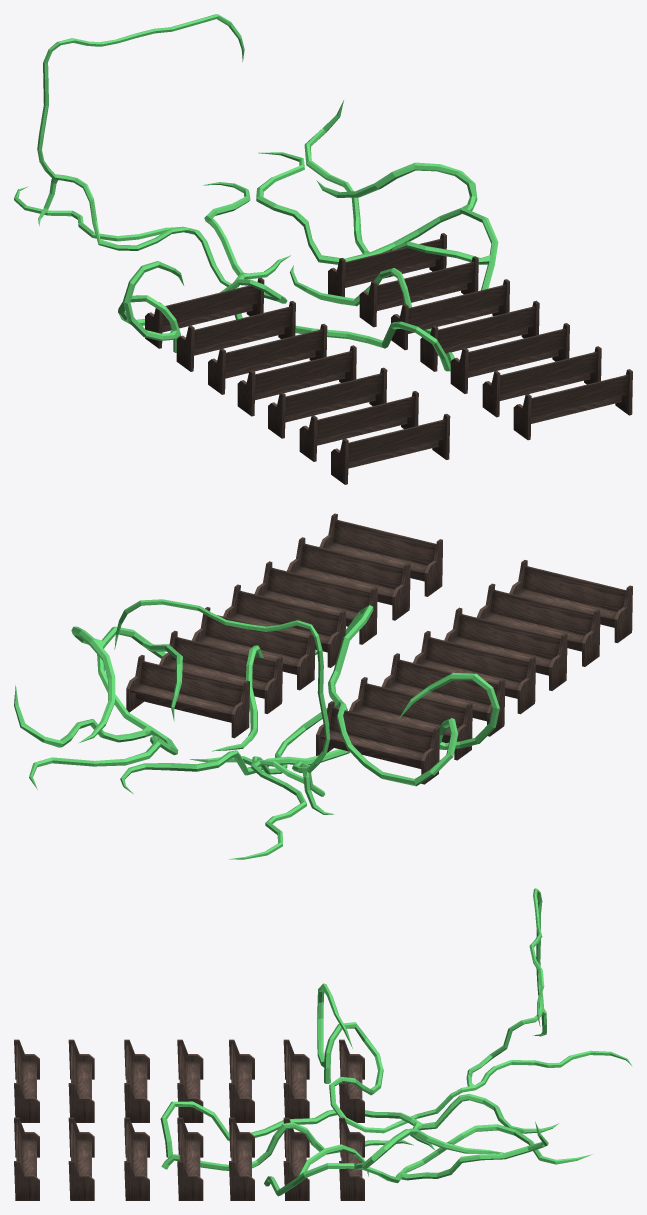
File: Theater.Branches.fbx
The picture shows the model from 3 angles, top to bottom: view 1: azimuth 30°, elevation 25°; view 2: azimuth 150°, elevation 25°; view 3: azimuth 270°, elevation 25°; orthographic projection. The views are drawn at different scales.
Visible parts, largest first — view 1: Theater.Branches; view 2: Theater.Branches; view 3: Theater.Branches.
Boxes of the visible parts, x1=… form: Theater.Branches: x1=14, y1=14, x2=632, y2=484; Theater.Branches: x1=14, y1=513, x2=632, y2=859; Theater.Branches: x1=14, y1=888, x2=632, y2=1200.
Bounding box in the file's own units: 809 × 466 × 1301.
